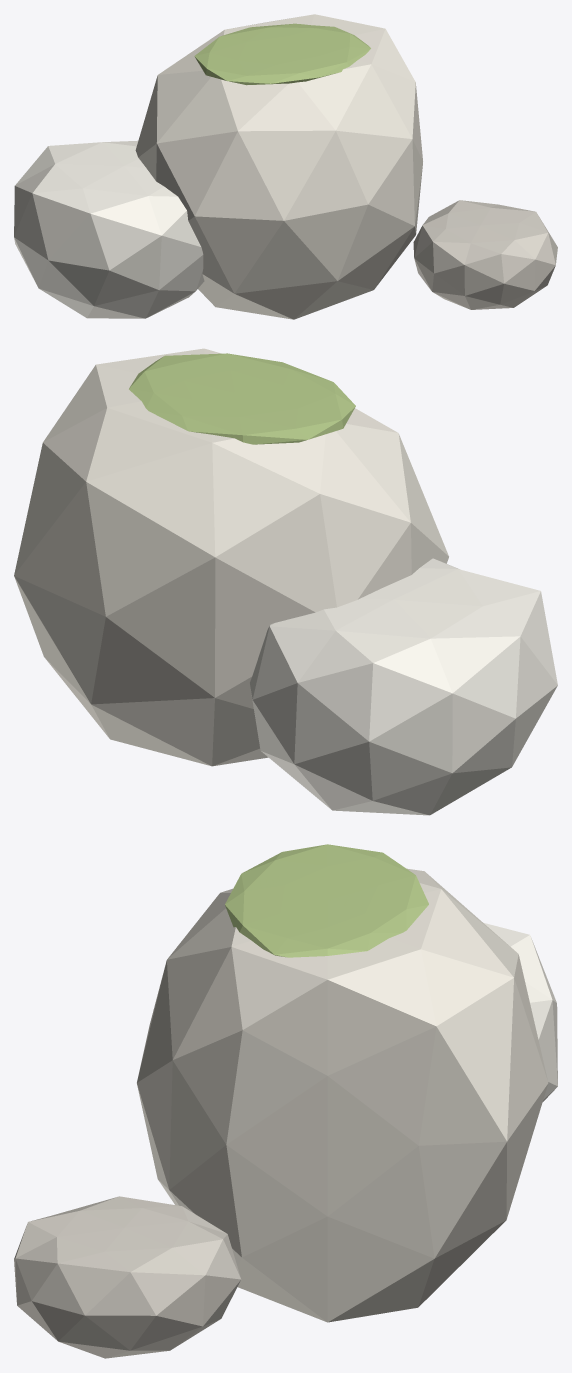
Rendered from rocha_grande_1.fbx.
The picture shows the model from 3 angles, top to bottom: view 1: azimuth 30°, elevation 25°; view 2: azimuth 150°, elevation 25°; view 3: azimuth 270°, elevation 25°; orthographic projection. The views are drawn at different scales.
Parts seen in each view (by area): view 1: rocha_grande_1~Bloco 0@stone, rocha_grande_1~Bloco 1@stonelight, rocha_grande_1~Bloco 2@stonedark, rocha_grande_1~Musgo@moss; view 2: rocha_grande_1~Bloco 0@stone, rocha_grande_1~Bloco 1@stonelight, rocha_grande_1~Musgo@moss; view 3: rocha_grande_1~Bloco 0@stone, rocha_grande_1~Bloco 2@stonedark, rocha_grande_1~Musgo@moss, rocha_grande_1~Bloco 1@stonelight.
Part boxes in pixels (left/top/right/bottom): rocha_grande_1~Bloco 0@stone: left=135, top=14, right=422, bottom=319; rocha_grande_1~Bloco 1@stonelight: left=14, top=140, right=204, bottom=318; rocha_grande_1~Bloco 2@stonedark: left=413, top=200, right=557, bottom=309; rocha_grande_1~Musgo@moss: left=194, top=23, right=370, bottom=85; rocha_grande_1~Bloco 0@stone: left=14, top=348, right=448, bottom=766; rocha_grande_1~Bloco 1@stonelight: left=250, top=558, right=557, bottom=815; rocha_grande_1~Musgo@moss: left=129, top=353, right=355, bottom=444; rocha_grande_1~Bloco 0@stone: left=137, top=868, right=548, bottom=1322; rocha_grande_1~Bloco 2@stonedark: left=14, top=1196, right=241, bottom=1358; rocha_grande_1~Musgo@moss: left=225, top=844, right=428, bottom=957; rocha_grande_1~Bloco 1@stonelight: left=484, top=923, right=557, bottom=1101.
Size of the model in its own units: 2.18 by 1.28 by 1.61.
